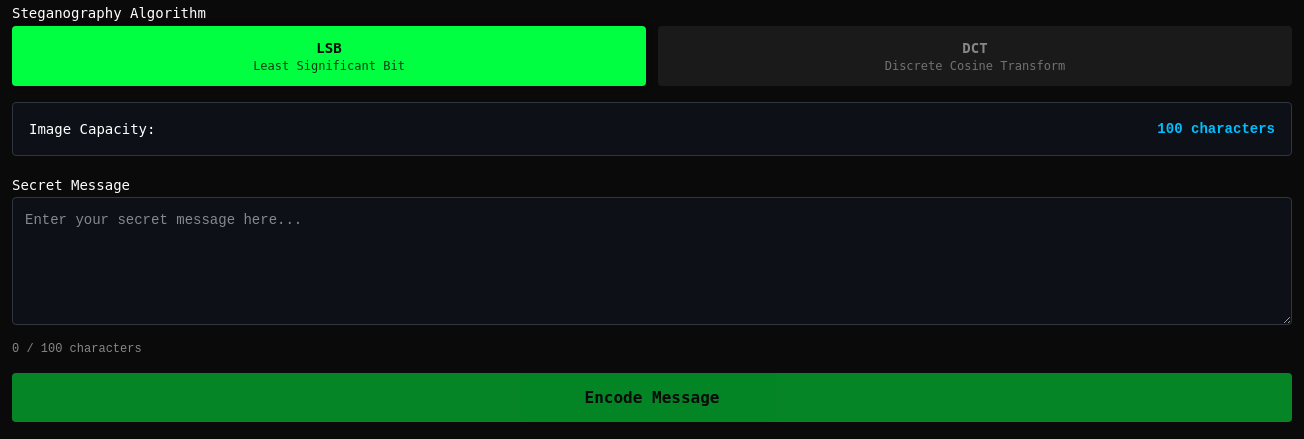
Test: EncodePanel › updates character count as user types
The image size is (1304, 439).
Expected: the text "100 characters" is shown, [1157, 119, 1275, 139]
Type "Hello" into the text box with placeholder "Enter your secret message here..." at (652, 261), box [12, 197, 1292, 325]
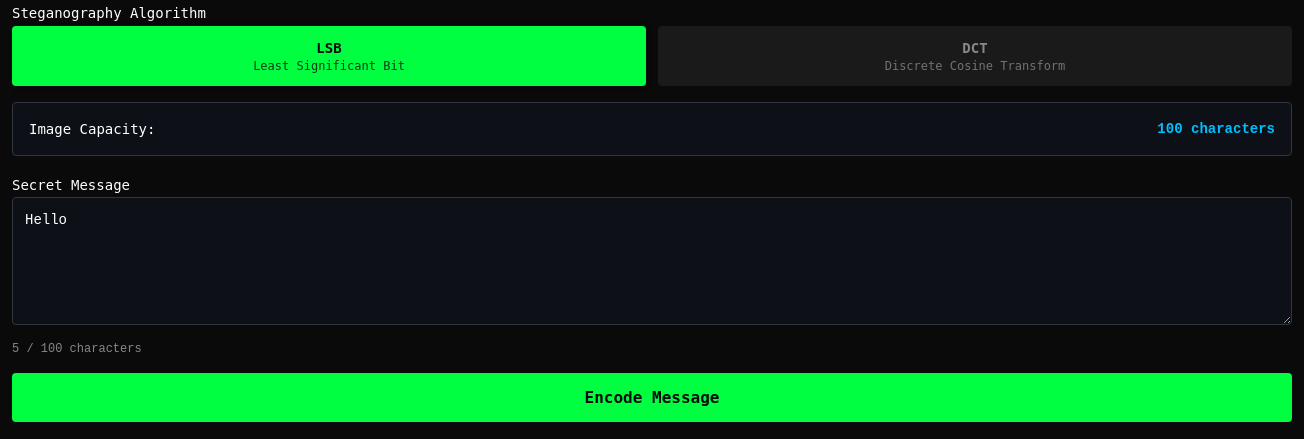
Expected: the text "5 / 100 characters" is shown, [12, 341, 142, 357]
